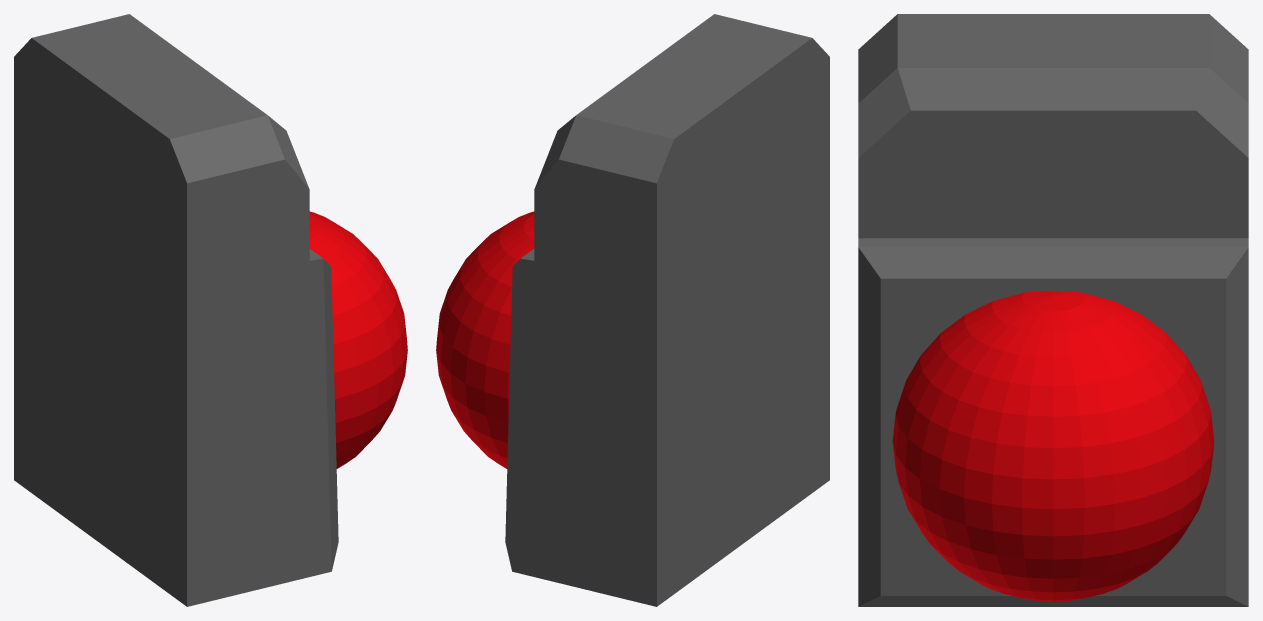
Rendered from indicator.fbx.
The picture shows the model from 3 angles, left to right: view 1: azimuth 30°, elevation 25°; view 2: azimuth 150°, elevation 25°; view 3: azimuth 270°, elevation 25°; orthographic projection. The views are drawn at different scales.
Parts seen in each view (by area): view 1: Cube, Sphere; view 2: Cube, Sphere; view 3: Cube, Sphere.
Boxes of the visible parts, bbox=[...] form: Cube: bbox=[14, 14, 338, 606]; Sphere: bbox=[309, 211, 407, 468]; Cube: bbox=[505, 14, 829, 606]; Sphere: bbox=[436, 211, 534, 468]; Cube: bbox=[858, 14, 1248, 606]; Sphere: bbox=[892, 291, 1214, 601].
Size of the model in its own units: 192 by 290 by 200.
